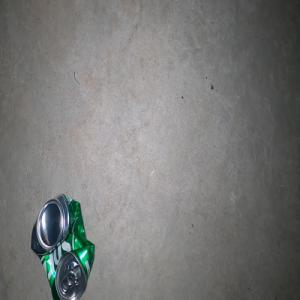SodaCan: (30, 193, 94, 300)
